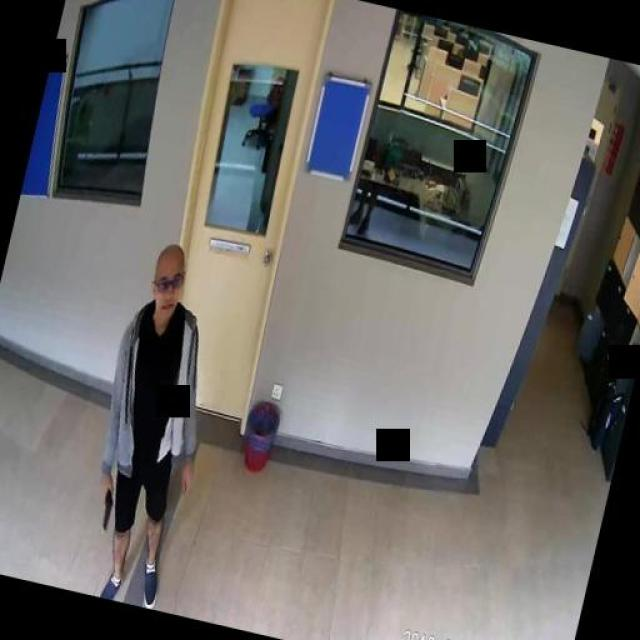gun: (95, 480, 116, 529)
